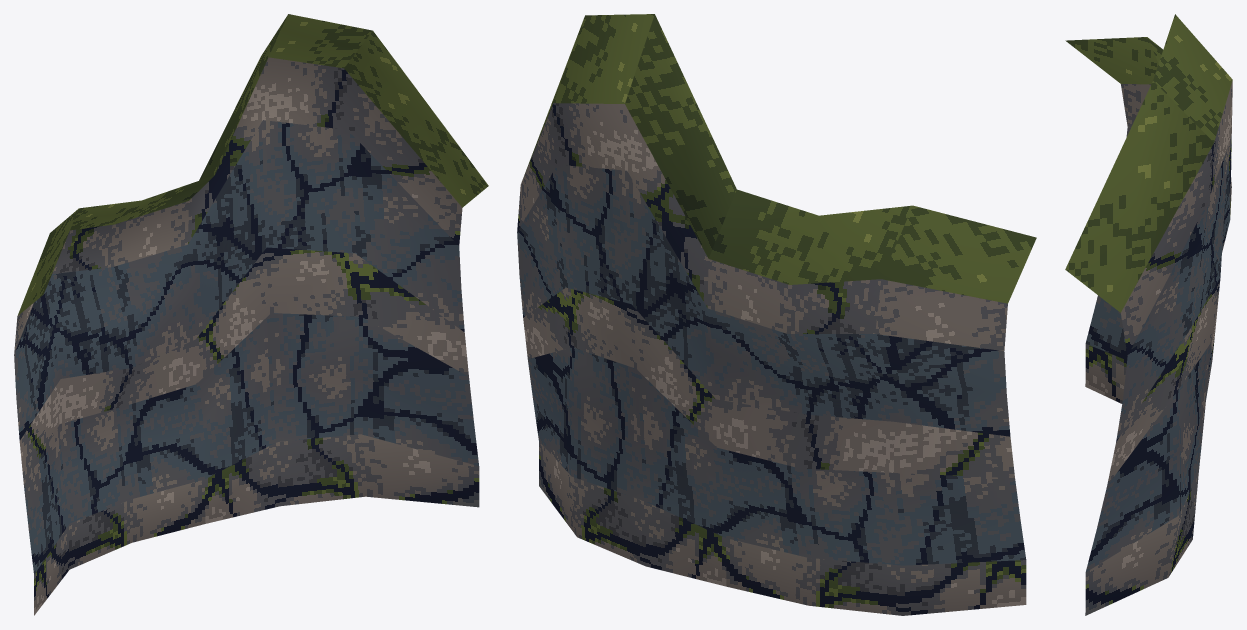
Rendered from cave.cliff.glb.
3 renders of one model, left to right at view 1: azimuth 30°, elevation 25°; view 2: azimuth 150°, elevation 25°; view 3: azimuth 270°, elevation 25°, orthographic. The views are drawn at different scales.
Visible parts, largest first — view 1: kit_shell_cliff; view 2: kit_shell_cliff; view 3: kit_shell_cliff.
Part boxes in pixels (bbox=[...]): kit_shell_cliff: bbox=[14, 14, 488, 615]; kit_shell_cliff: bbox=[517, 14, 1036, 615]; kit_shell_cliff: bbox=[1065, 14, 1232, 615].
Bounding box in the file's own units: 8 × 8.56 × 2.47.
3 materials, 3 textured.
